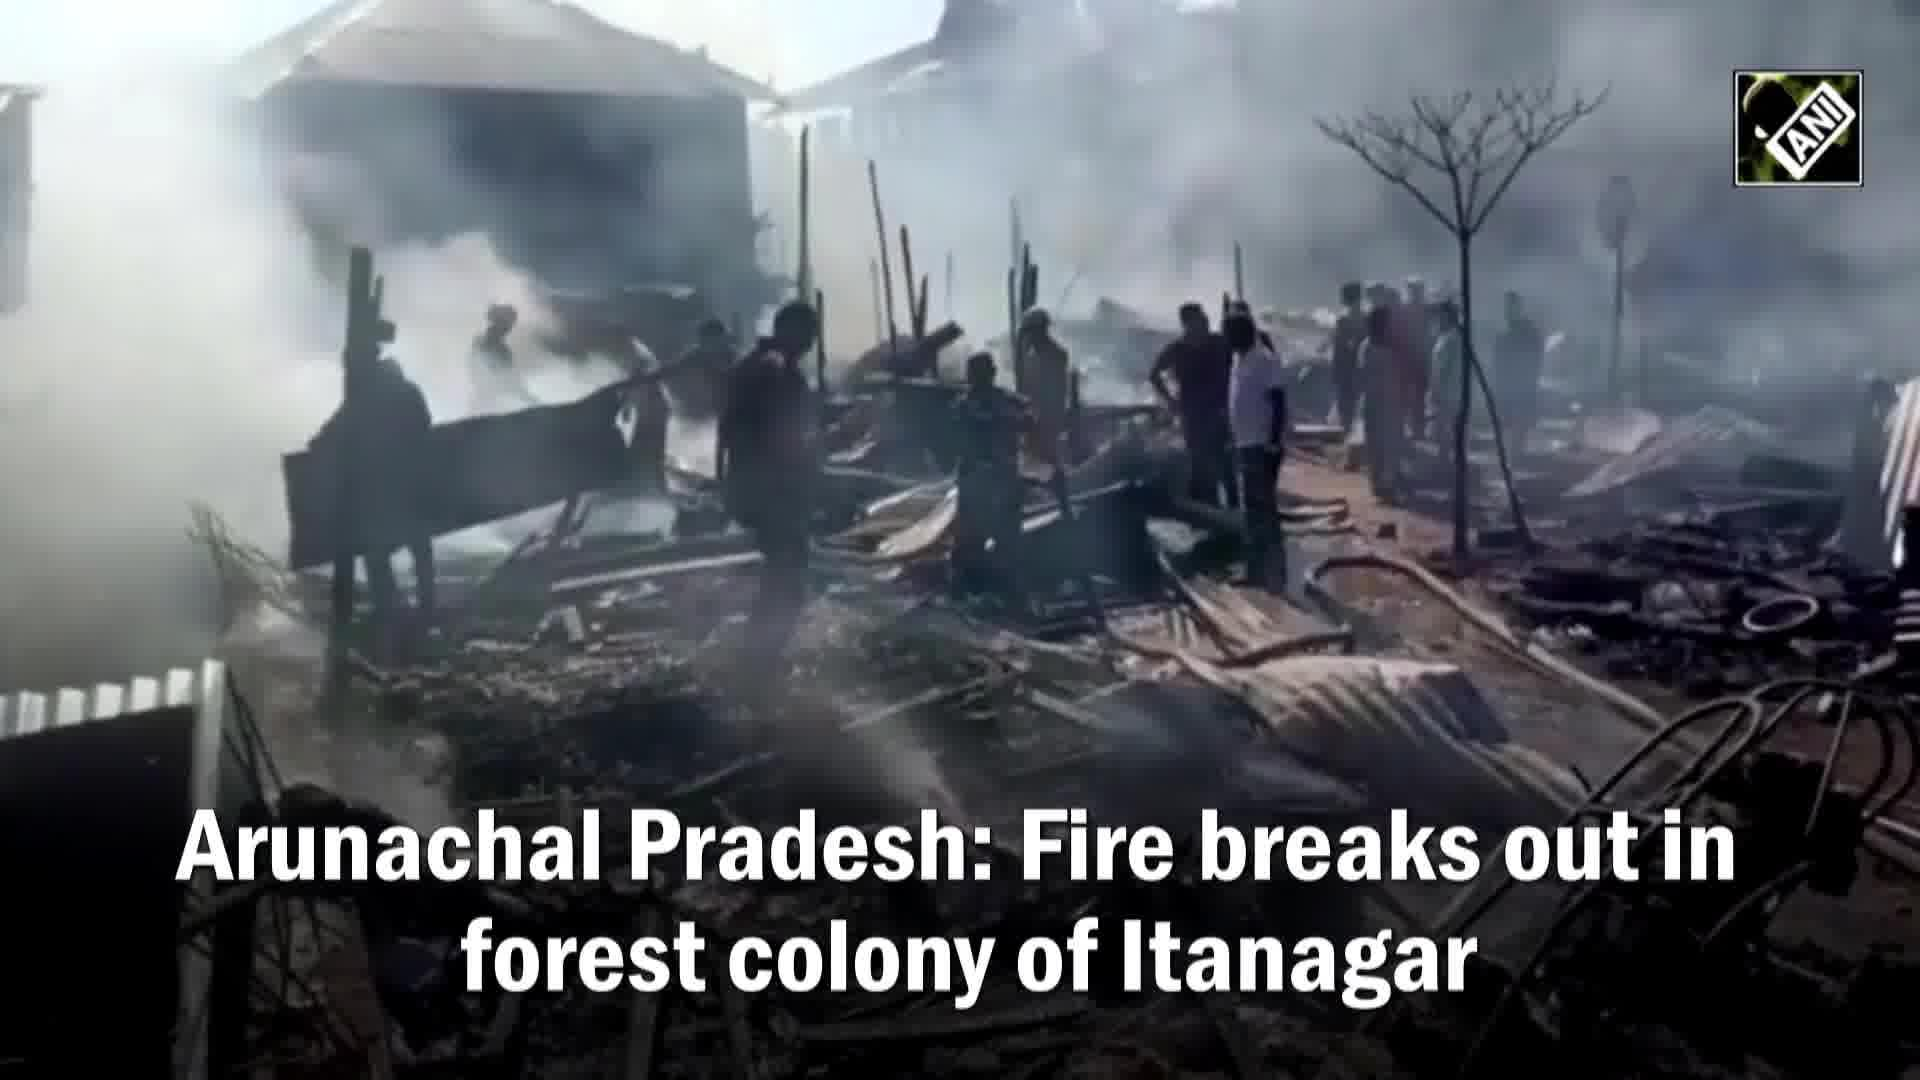smoke: (0, 46, 328, 645), (823, 0, 1331, 335), (1478, 204, 1920, 397), (1331, 0, 1714, 196), (380, 240, 605, 417), (611, 87, 790, 276), (328, 76, 487, 235)
